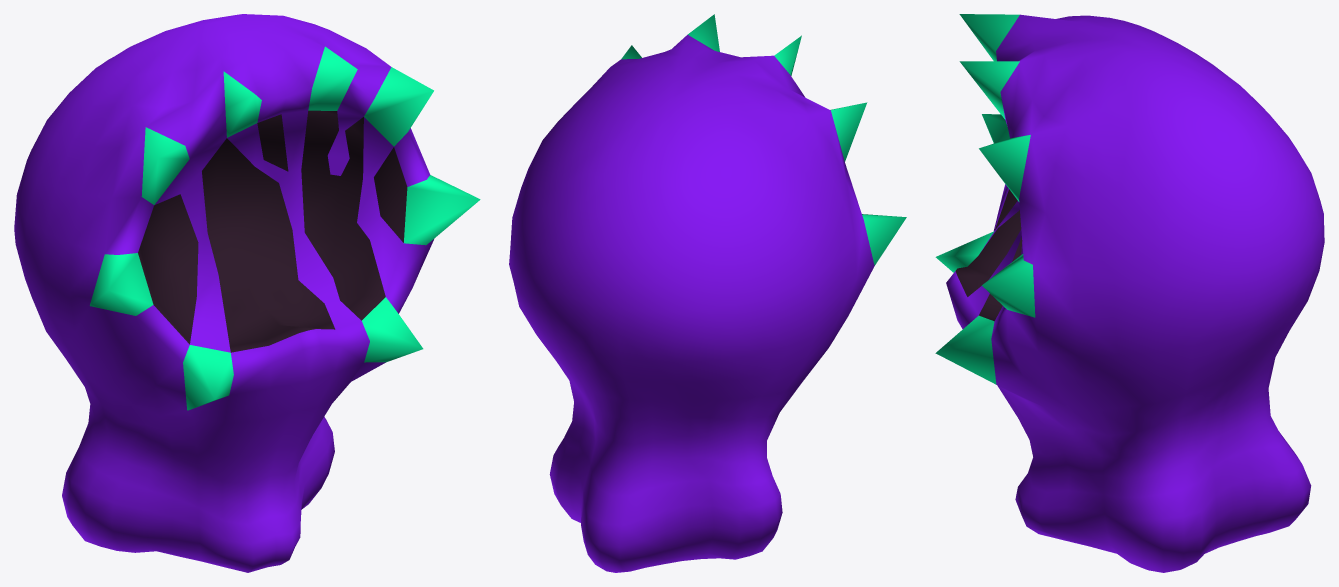
The model's file is SlimeAttacking.fbx.
3 views of the same model, side by side, from view 1: azimuth 30°, elevation 25°; view 2: azimuth 150°, elevation 25°; view 3: azimuth 270°, elevation 25° (orthographic). The views are drawn at different scales.
Parts seen in each view (by area): view 1: Slime_Enemy_Mesh2; view 2: Slime_Enemy_Mesh2; view 3: Slime_Enemy_Mesh2.
Boxes of the visible parts, box(x1,y1,x2,y2) form: Slime_Enemy_Mesh2: box(14, 14, 480, 572); Slime_Enemy_Mesh2: box(509, 14, 906, 572); Slime_Enemy_Mesh2: box(935, 14, 1324, 572).
Bounding box in the file's own units: 103 × 139 × 98.43.
